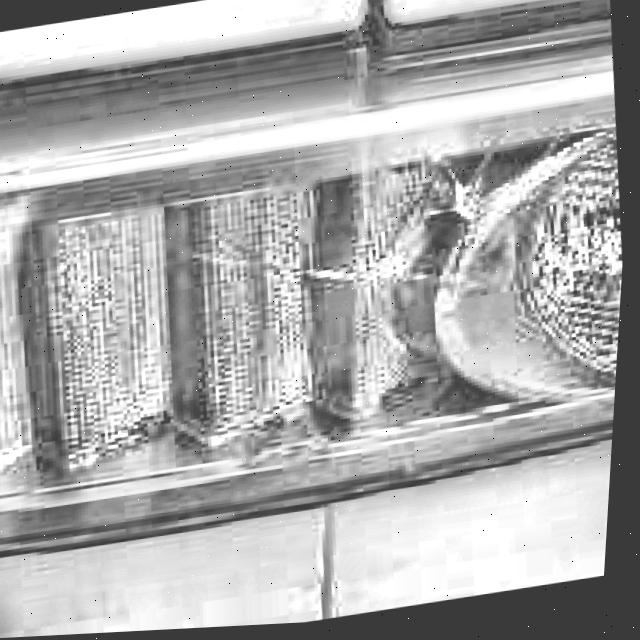tail_lamp: (340, 109, 632, 387)
